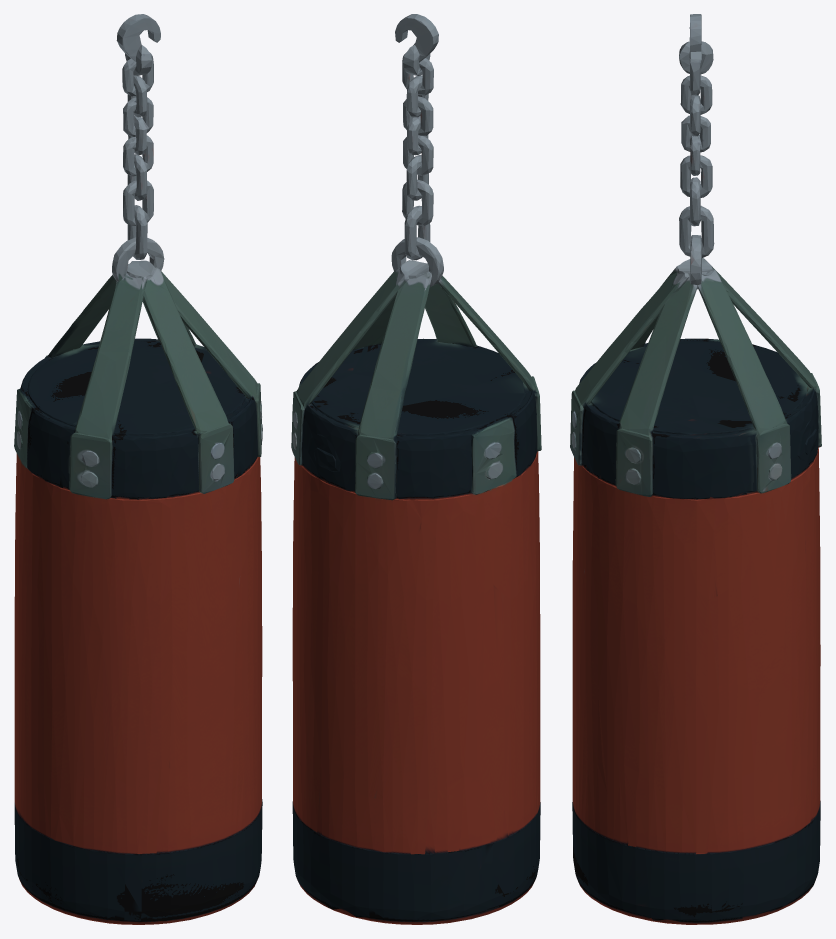
Rendered from heavy_bag_short.glb.
3 views of the same model, side by side, from view 1: azimuth 30°, elevation 25°; view 2: azimuth 150°, elevation 25°; view 3: azimuth 270°, elevation 25° (orthographic).
Visible parts, largest first — view 1: heavy_bag_short; view 2: heavy_bag_short; view 3: heavy_bag_short.
Part boxes in pixels (left/top/right/bottom): heavy_bag_short: left=14, top=14, right=262, bottom=924; heavy_bag_short: left=291, top=14, right=541, bottom=924; heavy_bag_short: left=570, top=14, right=821, bottom=924.
Bounding box in the file's own units: 0.3628 × 1.4 × 0.3687.
Materials: 1 (1 with a texture image).
